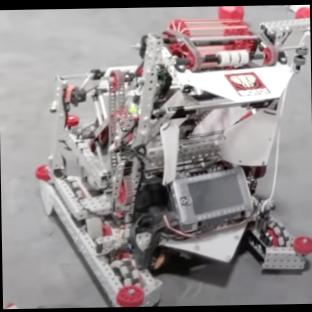Robot: (35, 13, 312, 306)
